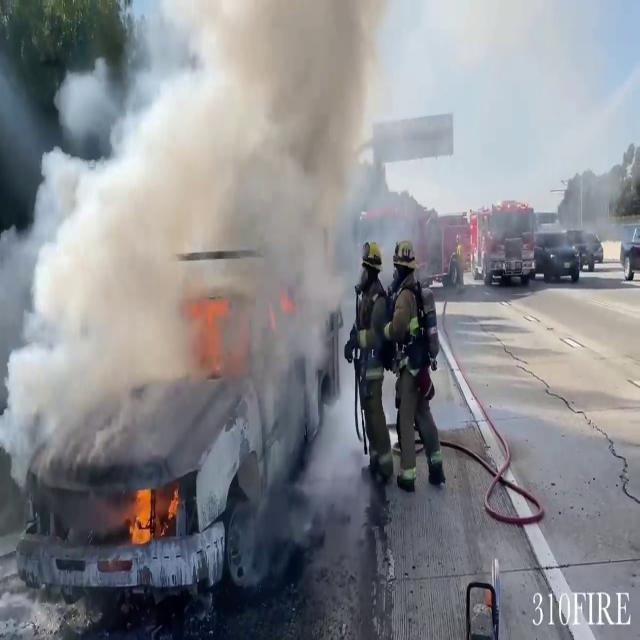Fire: (125, 474, 182, 546)
Smoke: (0, 0, 398, 519)
